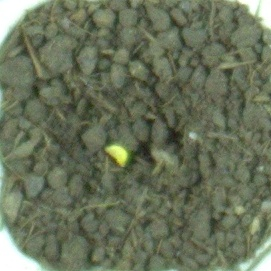pepper seed: (36, 60, 167, 229)
